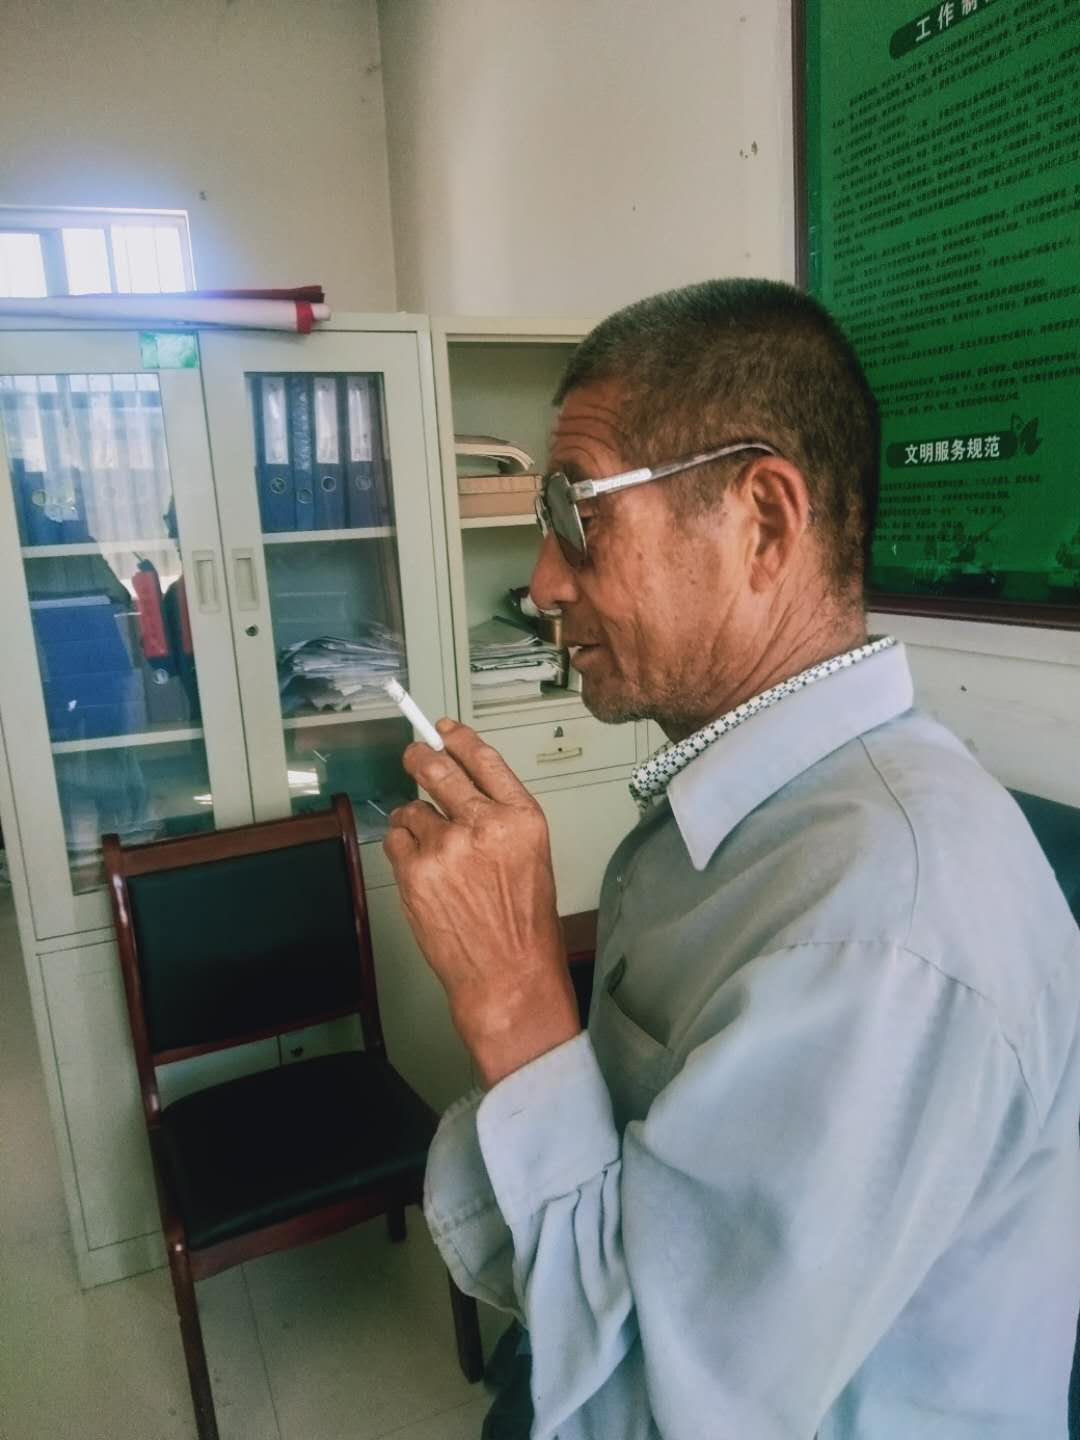smoke: (383, 676, 446, 754)
